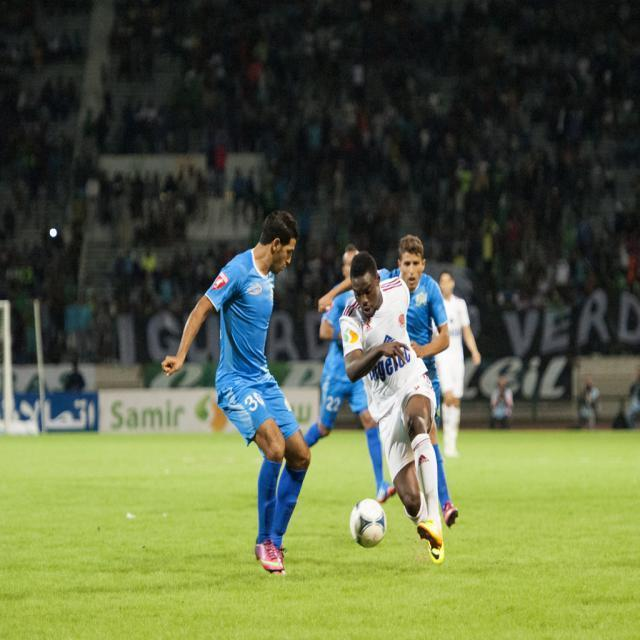ball: (351, 497, 388, 548)
